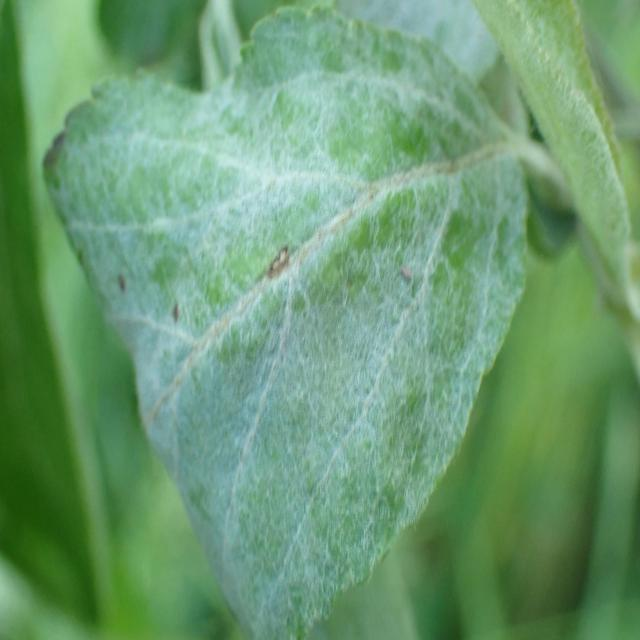Powdery_mildew: (58, 7, 525, 638), (485, 0, 640, 375)
